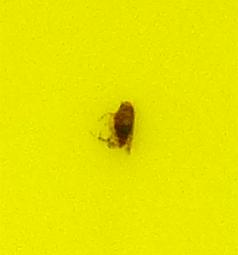Hemiptera: (100, 100, 138, 155)
